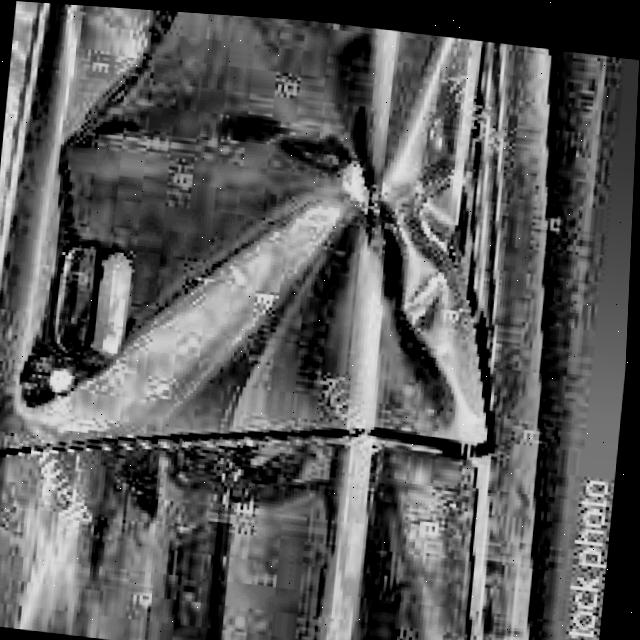door_dent: (15, 2, 518, 453)
